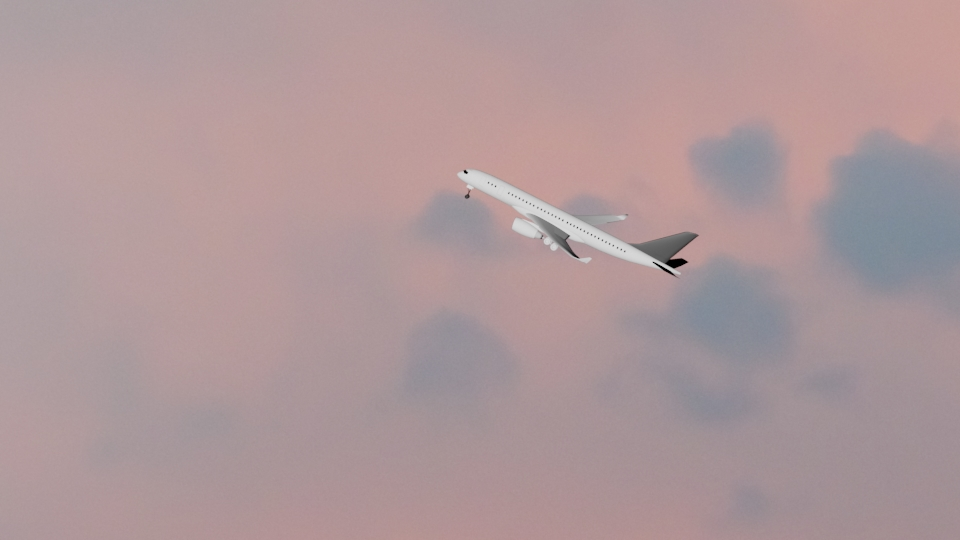plane: (455, 164, 702, 283)
